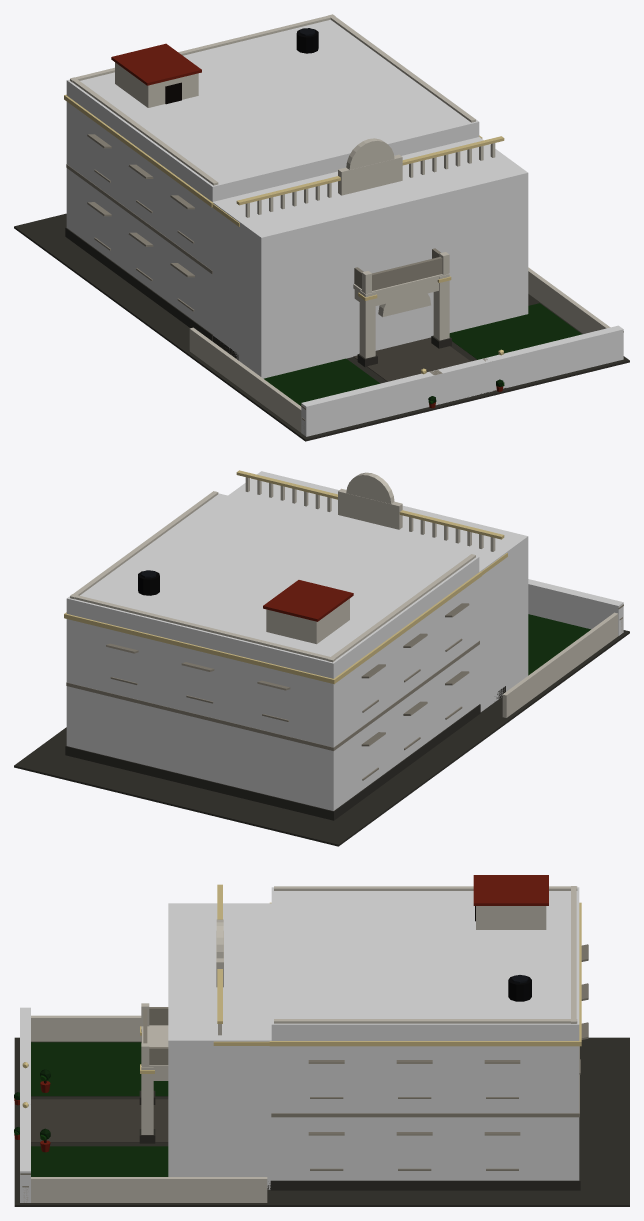
File: CHN_029_colonial_bungalow.glb
3 views of the same model, one above another, from view 1: azimuth 30°, elevation 25°; view 2: azimuth 150°, elevation 25°; view 3: azimuth 270°, elevation 25° (orthographic). The views are drawn at different scales.
Parts seen in each view (by area): view 1: COL_Main, COL_Verandah, LOD0, COL_Compound; view 2: COL_Main, LOD0, COL_Verandah, COL_Compound; view 3: COL_Main, LOD0, COL_Verandah, COL_Compound.
Part boxes in pixels (x1,y1,x2,y2): COL_Main: (66, 19, 479, 334); COL_Verandah: (211, 137, 528, 378); LOD0: (14, 14, 629, 441); COL_Compound: (301, 325, 623, 436); COL_Main: (66, 493, 479, 810); LOD0: (14, 470, 629, 846); COL_Verandah: (228, 471, 528, 711); COL_Compound: (528, 579, 623, 635); COL_Main: (271, 887, 579, 1180); LOD0: (14, 875, 629, 1206); COL_Verandah: (168, 903, 273, 1189); COL_Compound: (20, 1007, 30, 1202).
Size of what is drawn, in the model's own units: 18 by 10.1 by 28.03.
